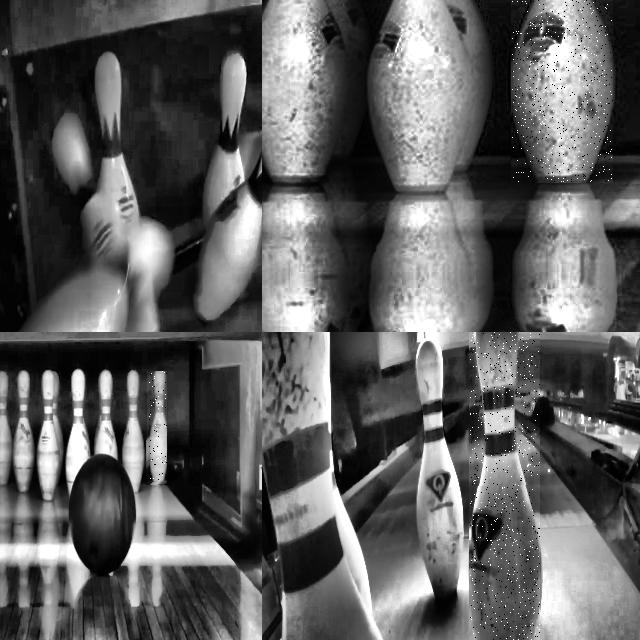bowling-ball: (69, 454, 136, 575)
bowling-pins: (262, 332, 382, 640), (470, 332, 539, 640), (368, 0, 471, 194), (512, 0, 612, 182), (262, 0, 343, 184), (415, 338, 463, 601), (444, 0, 491, 172), (326, 0, 370, 162), (65, 369, 90, 495), (36, 369, 59, 500), (122, 370, 144, 492), (12, 370, 34, 492), (94, 369, 118, 459), (149, 371, 167, 482), (0, 371, 12, 486), (52, 371, 63, 479), (333, 492, 342, 500)
